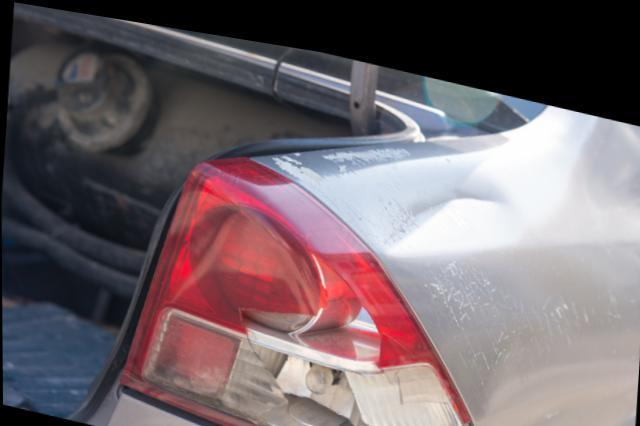dent: (364, 146, 520, 242), (484, 341, 639, 426)
lamp broken: (117, 147, 476, 426)
scratch: (433, 247, 612, 358)
